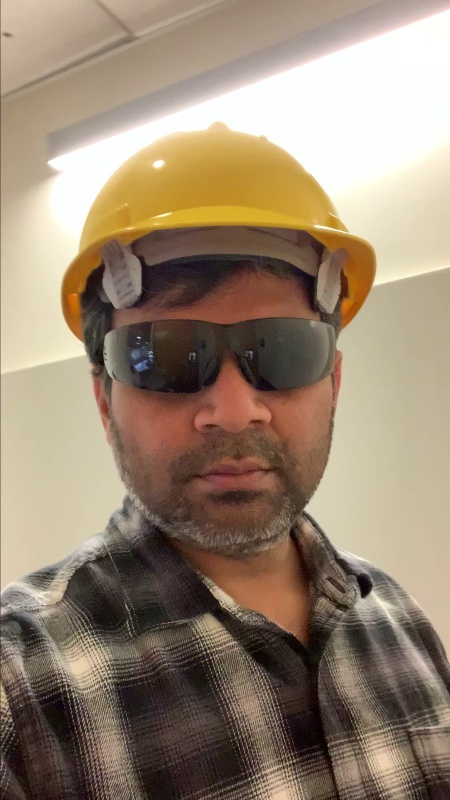glasses: (95, 310, 343, 398)
helmet: (55, 110, 381, 311)
